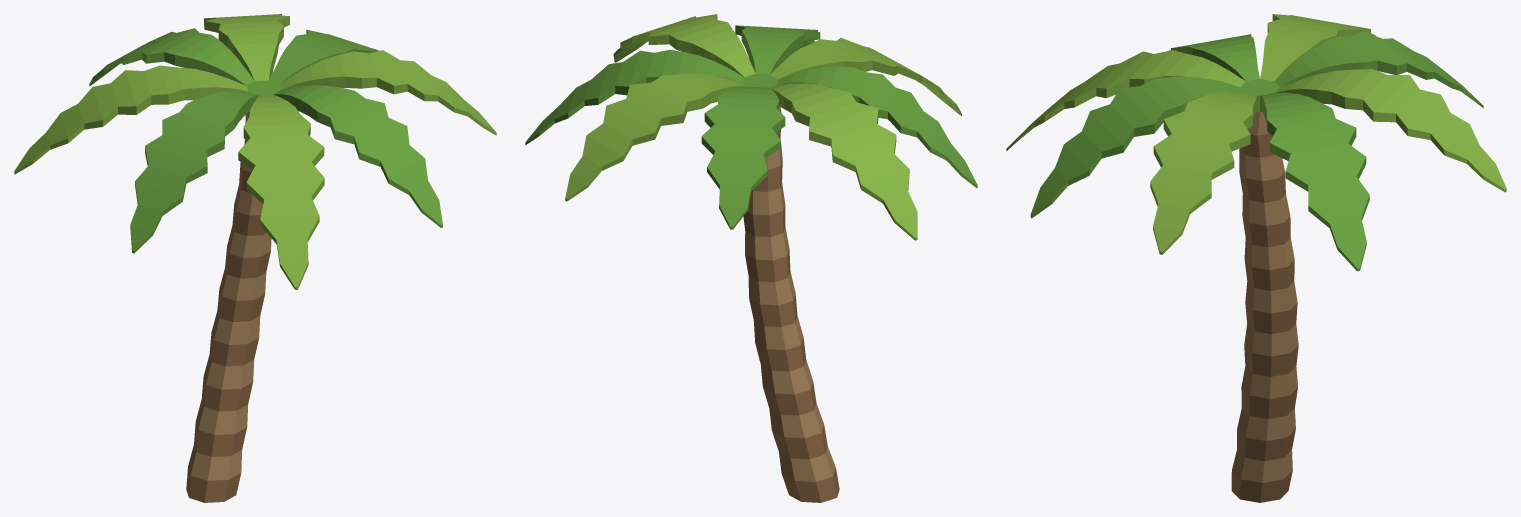
Rendered from NEW_RECOVERY_026_LOD1.glb.
3 views of the same model, side by side, from view 1: azimuth 30°, elevation 25°; view 2: azimuth 150°, elevation 25°; view 3: azimuth 270°, elevation 25° (orthographic). The views are drawn at different scales.
Visible parts, largest first — view 1: Whole_Palm; view 2: Whole_Palm; view 3: Whole_Palm.
Part boxes in pixels (x1,y1,x2,y2): Whole_Palm: (14,14,496,502); Whole_Palm: (525,14,977,502); Whole_Palm: (1006,14,1506,502).
Size of the model in its own units: 3.84 by 3.88 by 3.87.
